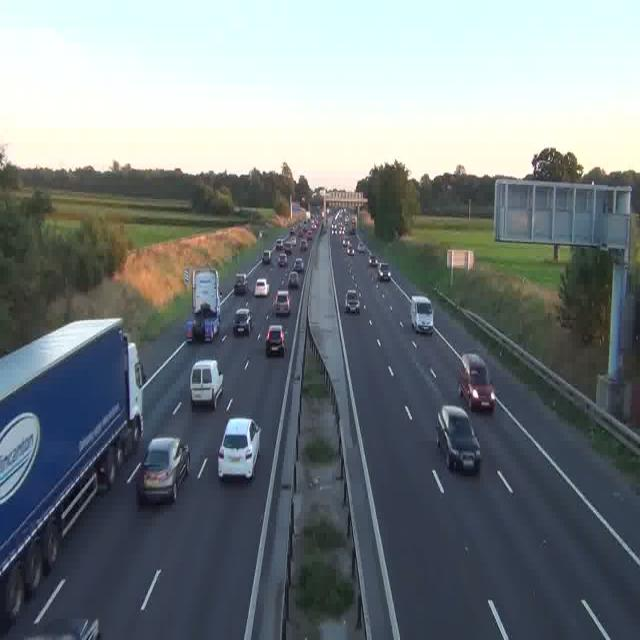car: (138, 437, 188, 503), (435, 404, 481, 473), (218, 418, 260, 480), (458, 353, 494, 412), (15, 616, 99, 639), (190, 360, 223, 407), (408, 294, 434, 332), (265, 324, 286, 354), (232, 309, 250, 335), (275, 290, 291, 316), (344, 290, 360, 314), (254, 278, 268, 297), (234, 274, 248, 293), (378, 262, 390, 281), (287, 270, 299, 287), (290, 258, 302, 274), (262, 250, 272, 265), (278, 252, 288, 266), (368, 254, 378, 267), (300, 238, 308, 251), (345, 244, 353, 256)
truck: (0, 317, 145, 624), (186, 268, 222, 342), (348, 216, 356, 235)
